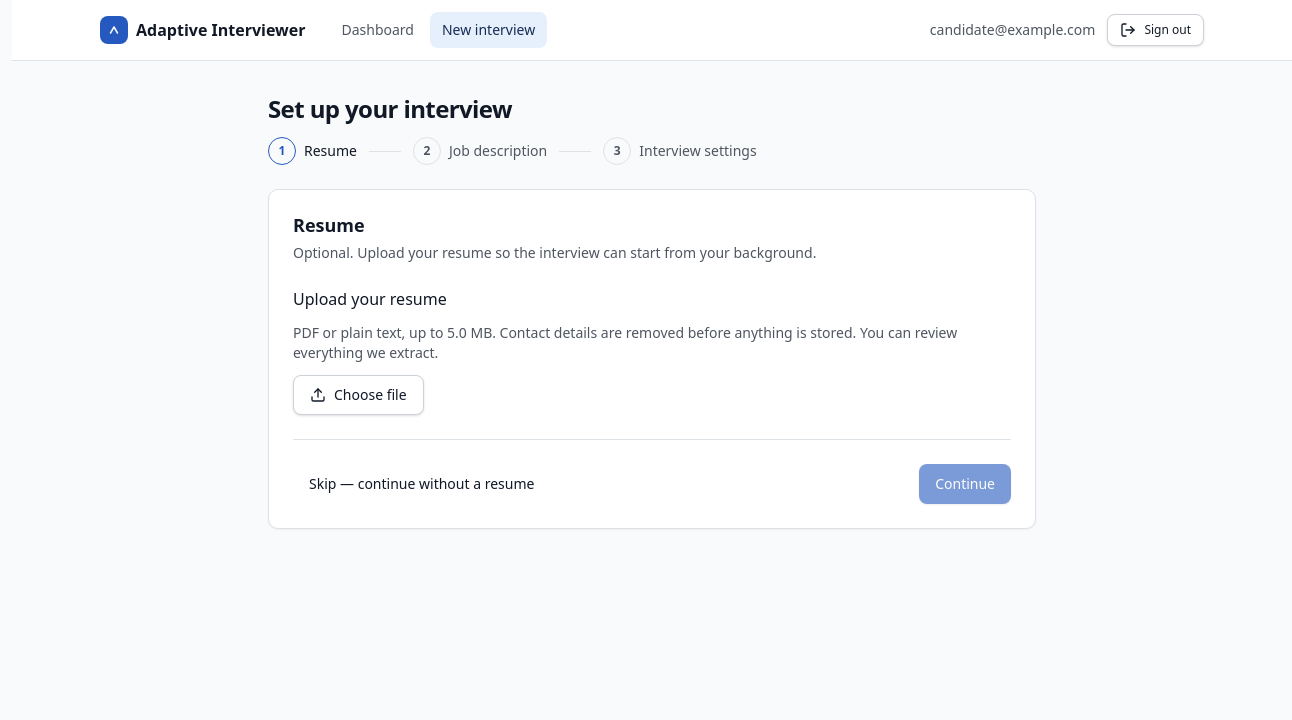
Test case: setup wizard — interview settings › shows the backend reason when creation is rejected
Click the button "Skip — continue without a resume" at (422, 484), box 293,464 -> 550,504
(page scrolled)
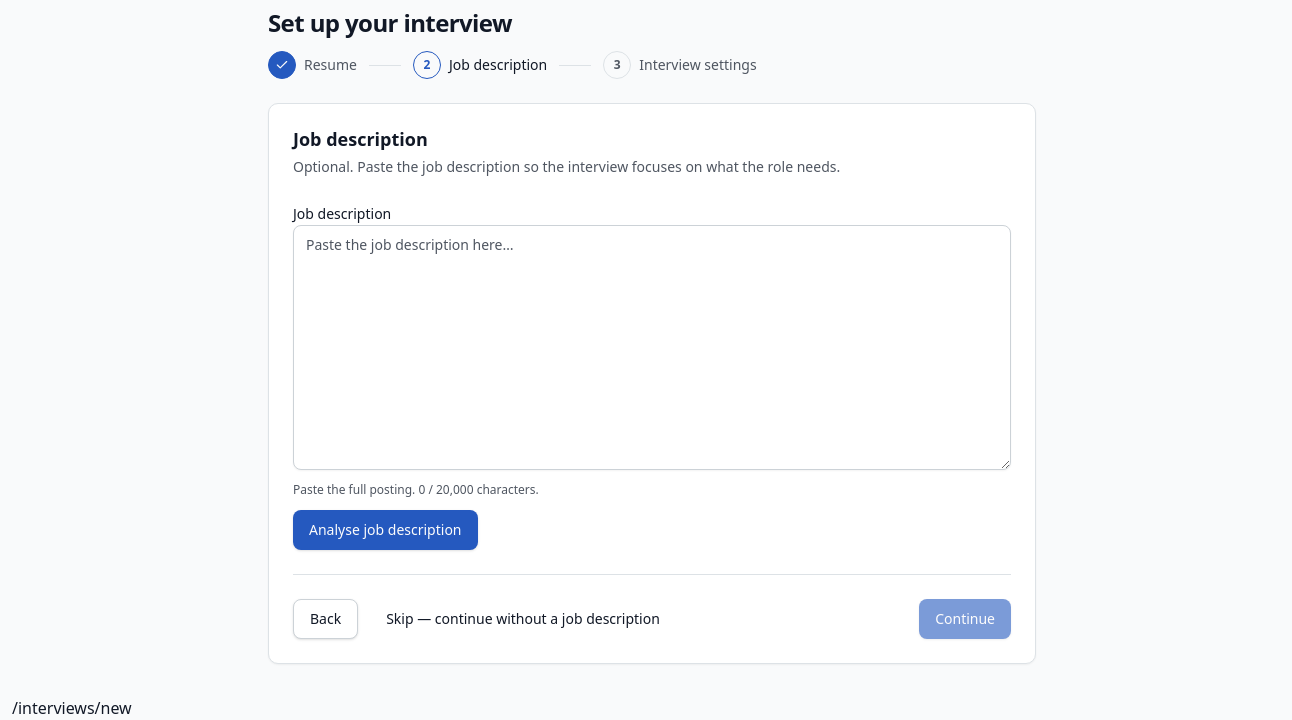
Click the button "Skip — continue without a job description" at (523, 619), box 370,599 -> 676,639
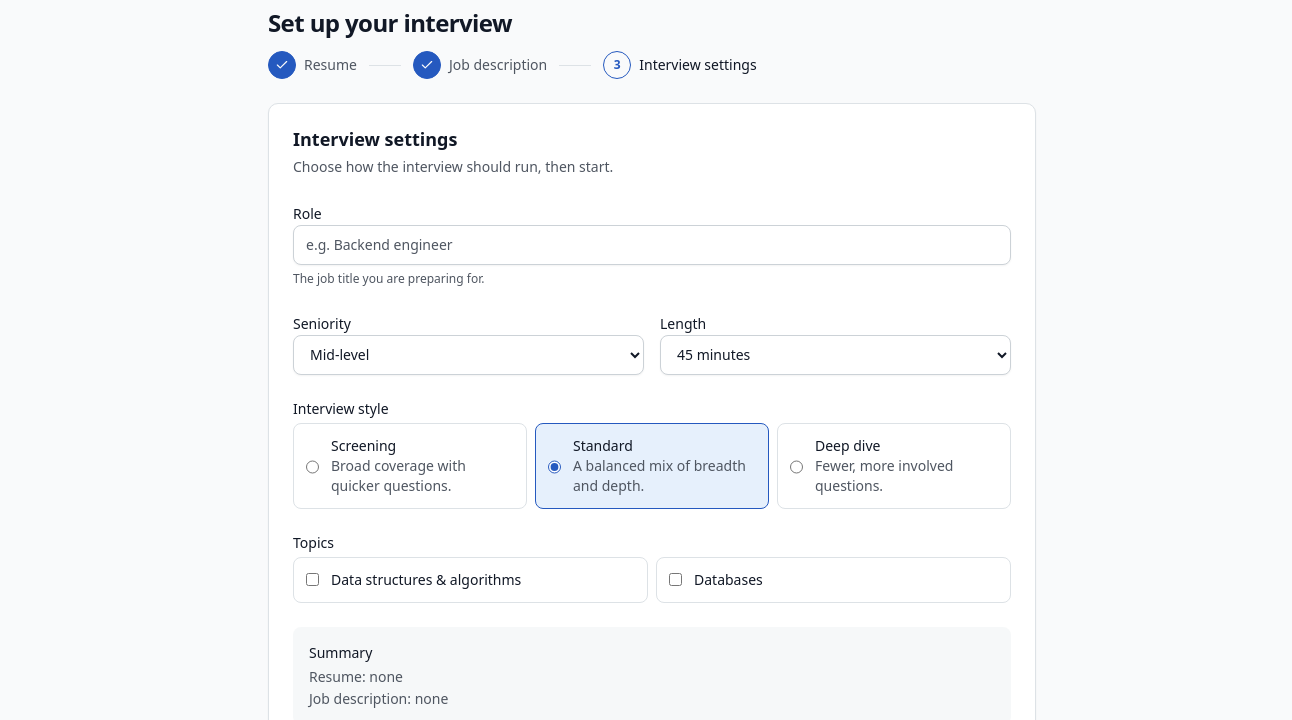
Check: the field labelled "Role" is shown
Type "Engineer" into the field labelled "Role" at (652, 244), box 293,224 -> 1011,264
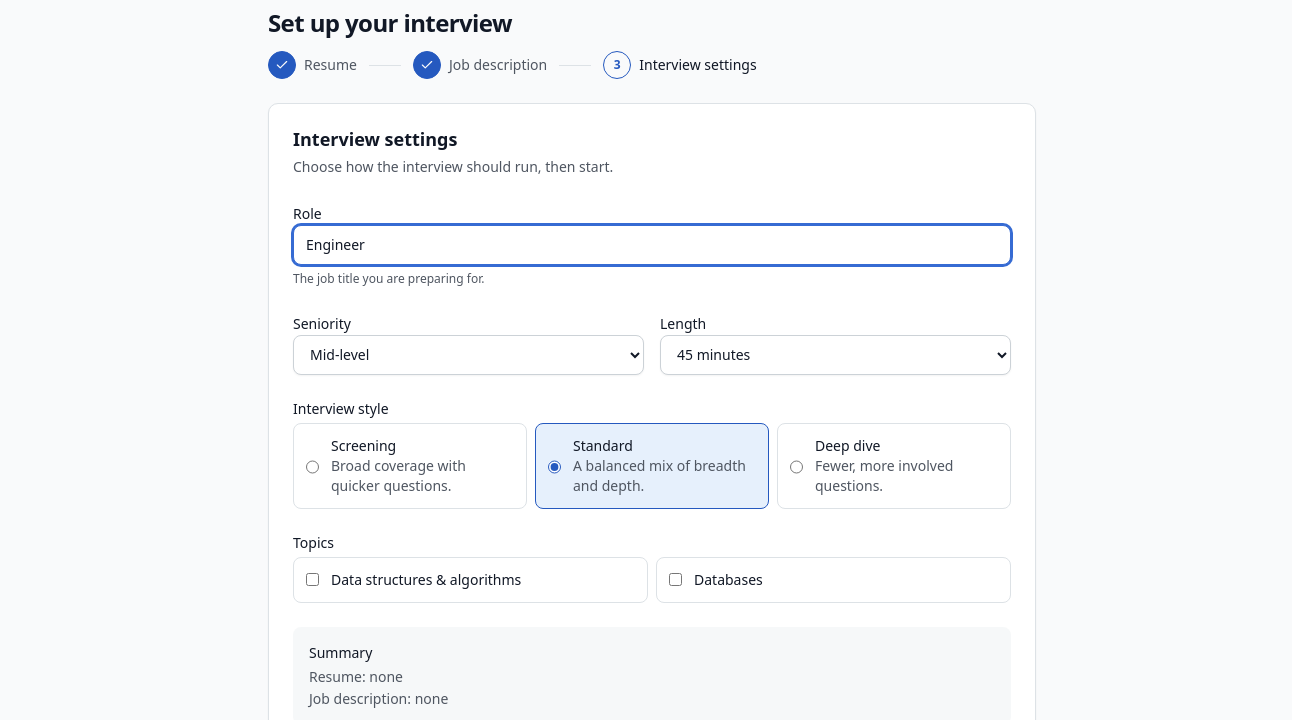
Click the checkbox labelled "Databases" at (676, 580), box 669,573 -> 682,586
(page scrolled)
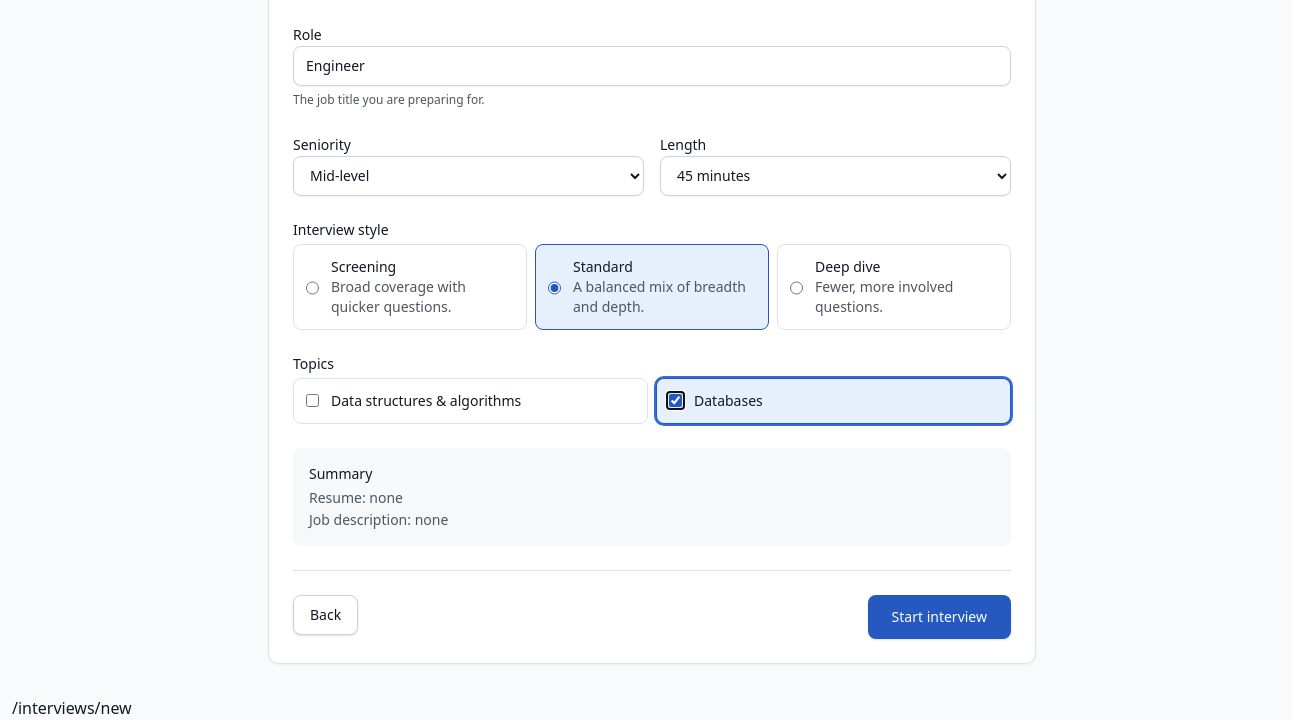
Click the button "Start interview" at (939, 616), box 868,594 -> 1011,638
(page scrolled)
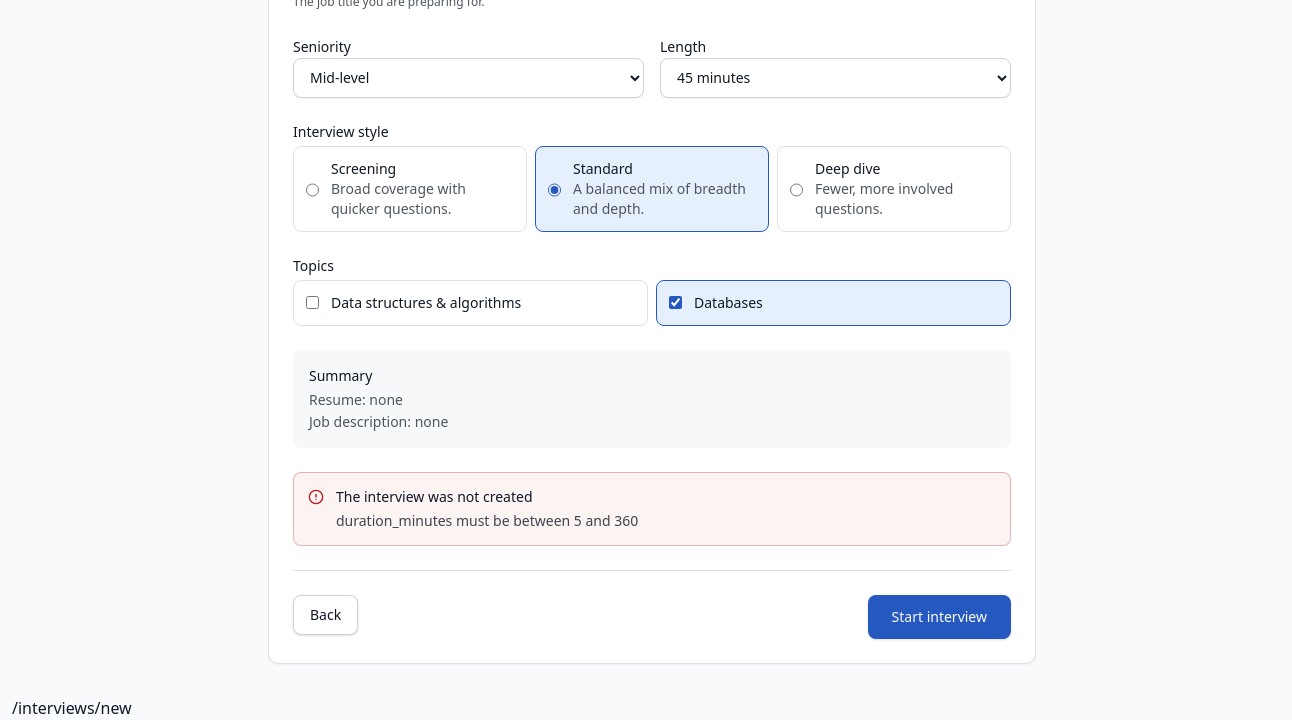
Check: the button "Start interview" is enabled, box 868,594 -> 1011,638
Check: the text "The interview was not created" is shown, box 336,486 -> 532,506
Check: the text "duration_minutes must be between 5 and 360" is shown, box 336,510 -> 638,530
